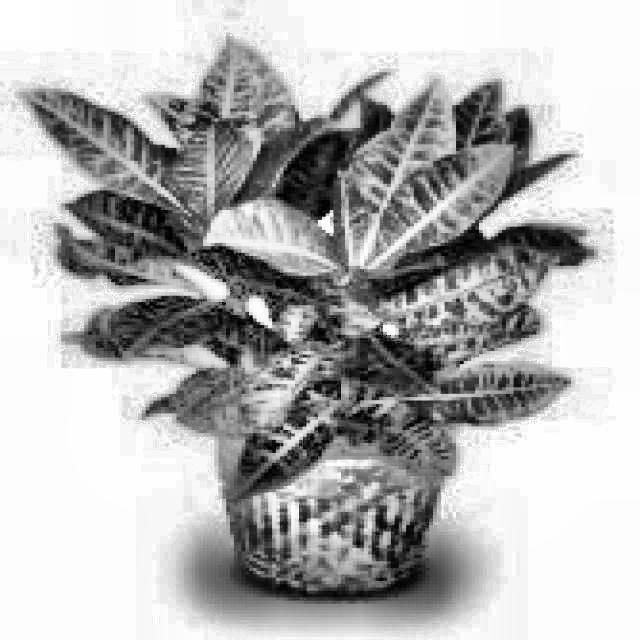plants: (44, 51, 596, 595)
